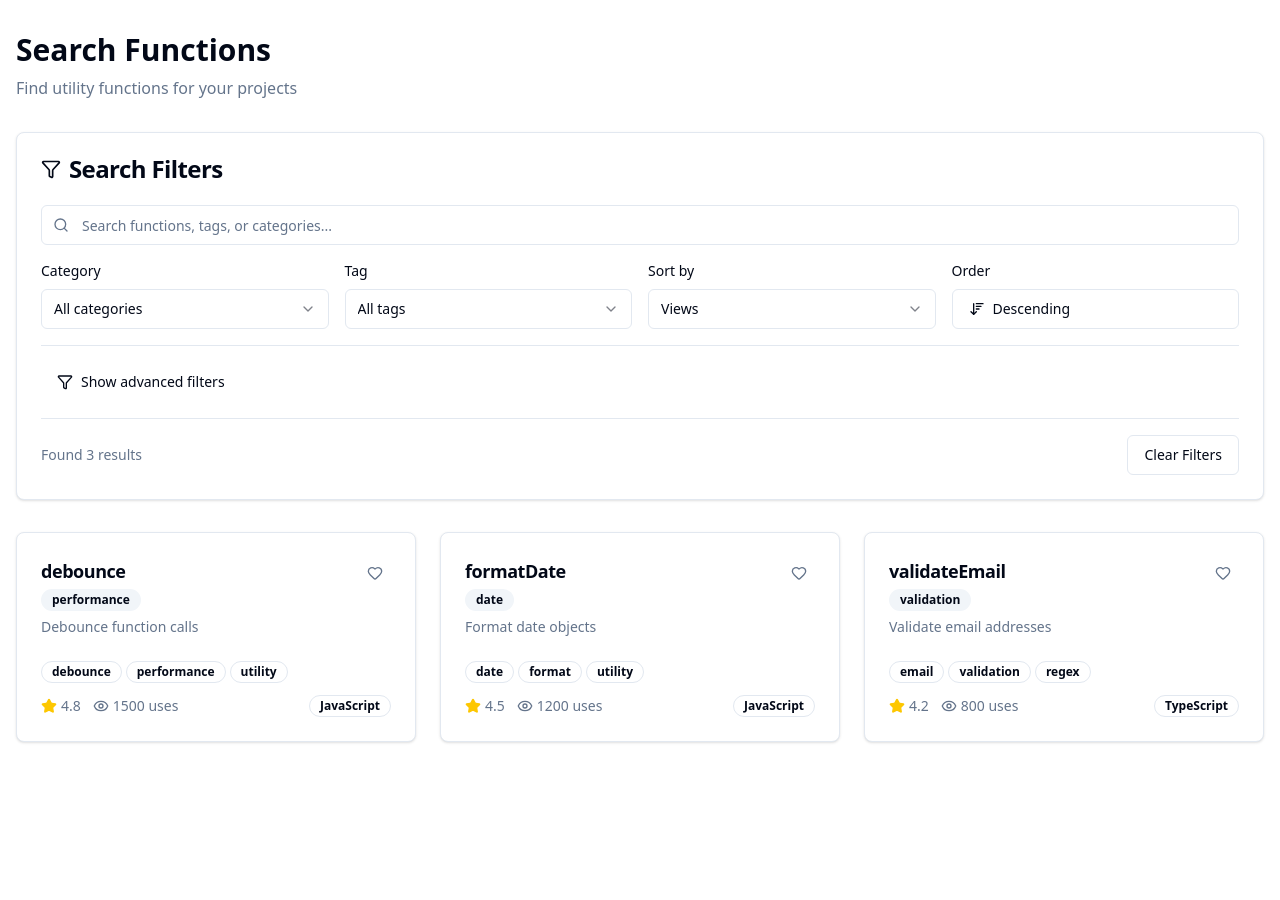
SearchPage › hides advanced filters when toggled back
The width and height of the screenshot is (1280, 900).
Click the button "Show advanced filters" at (141, 382), box [41,362,241,402]
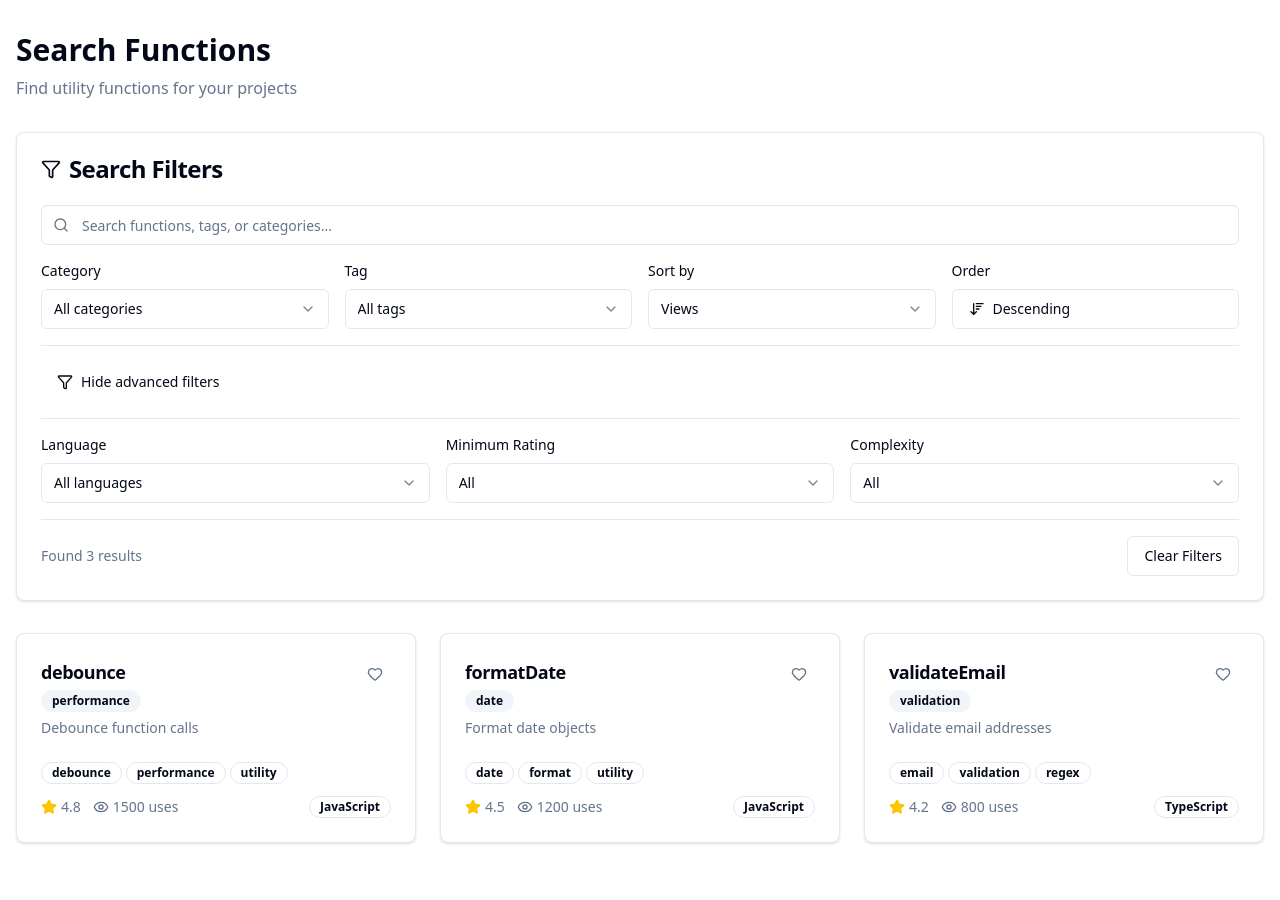
Now the text "Language" is shown, box [41,435,106,454]
Click the button "Hide advanced filters" at (138, 382), box [41,362,236,402]
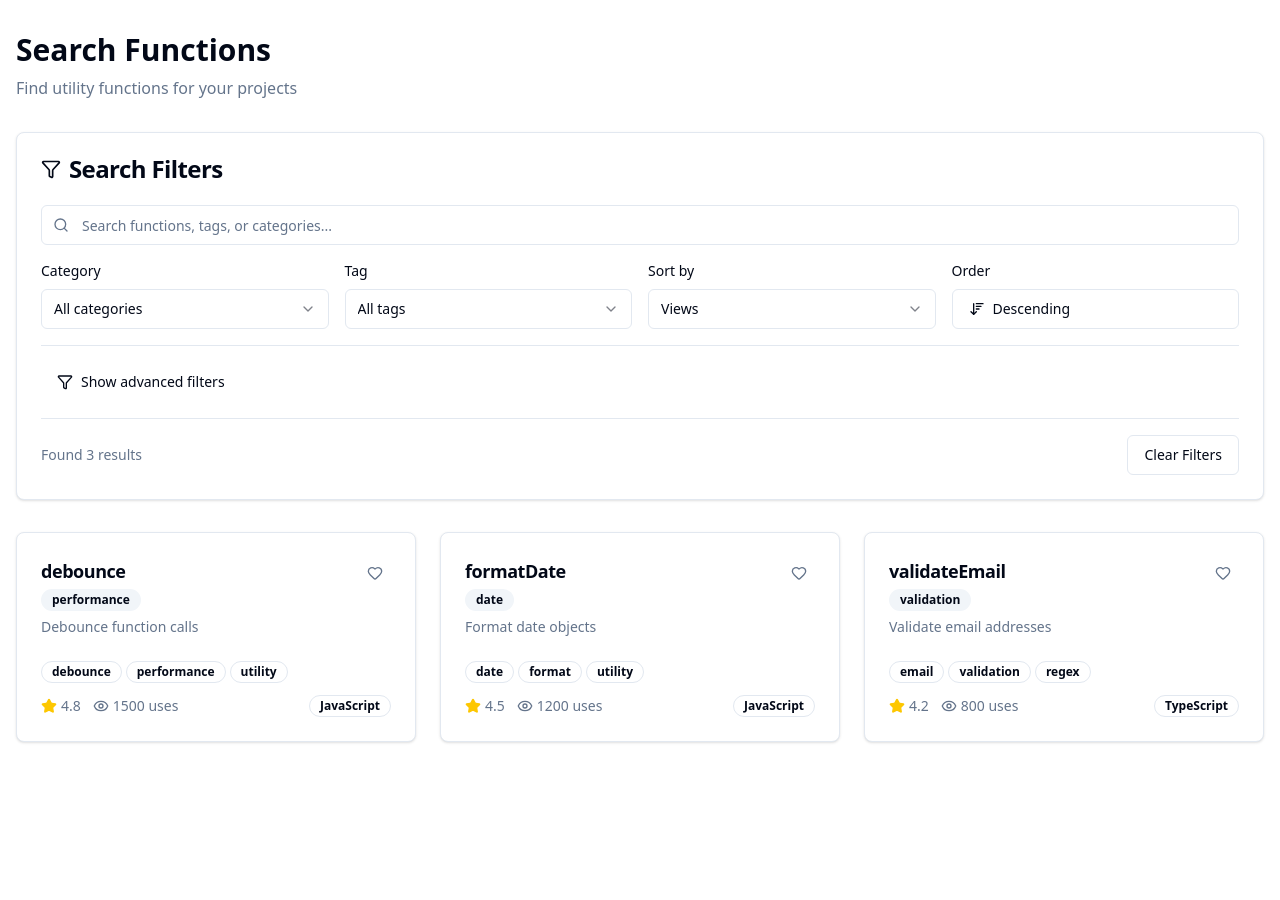
Now the text "Language" is gone
